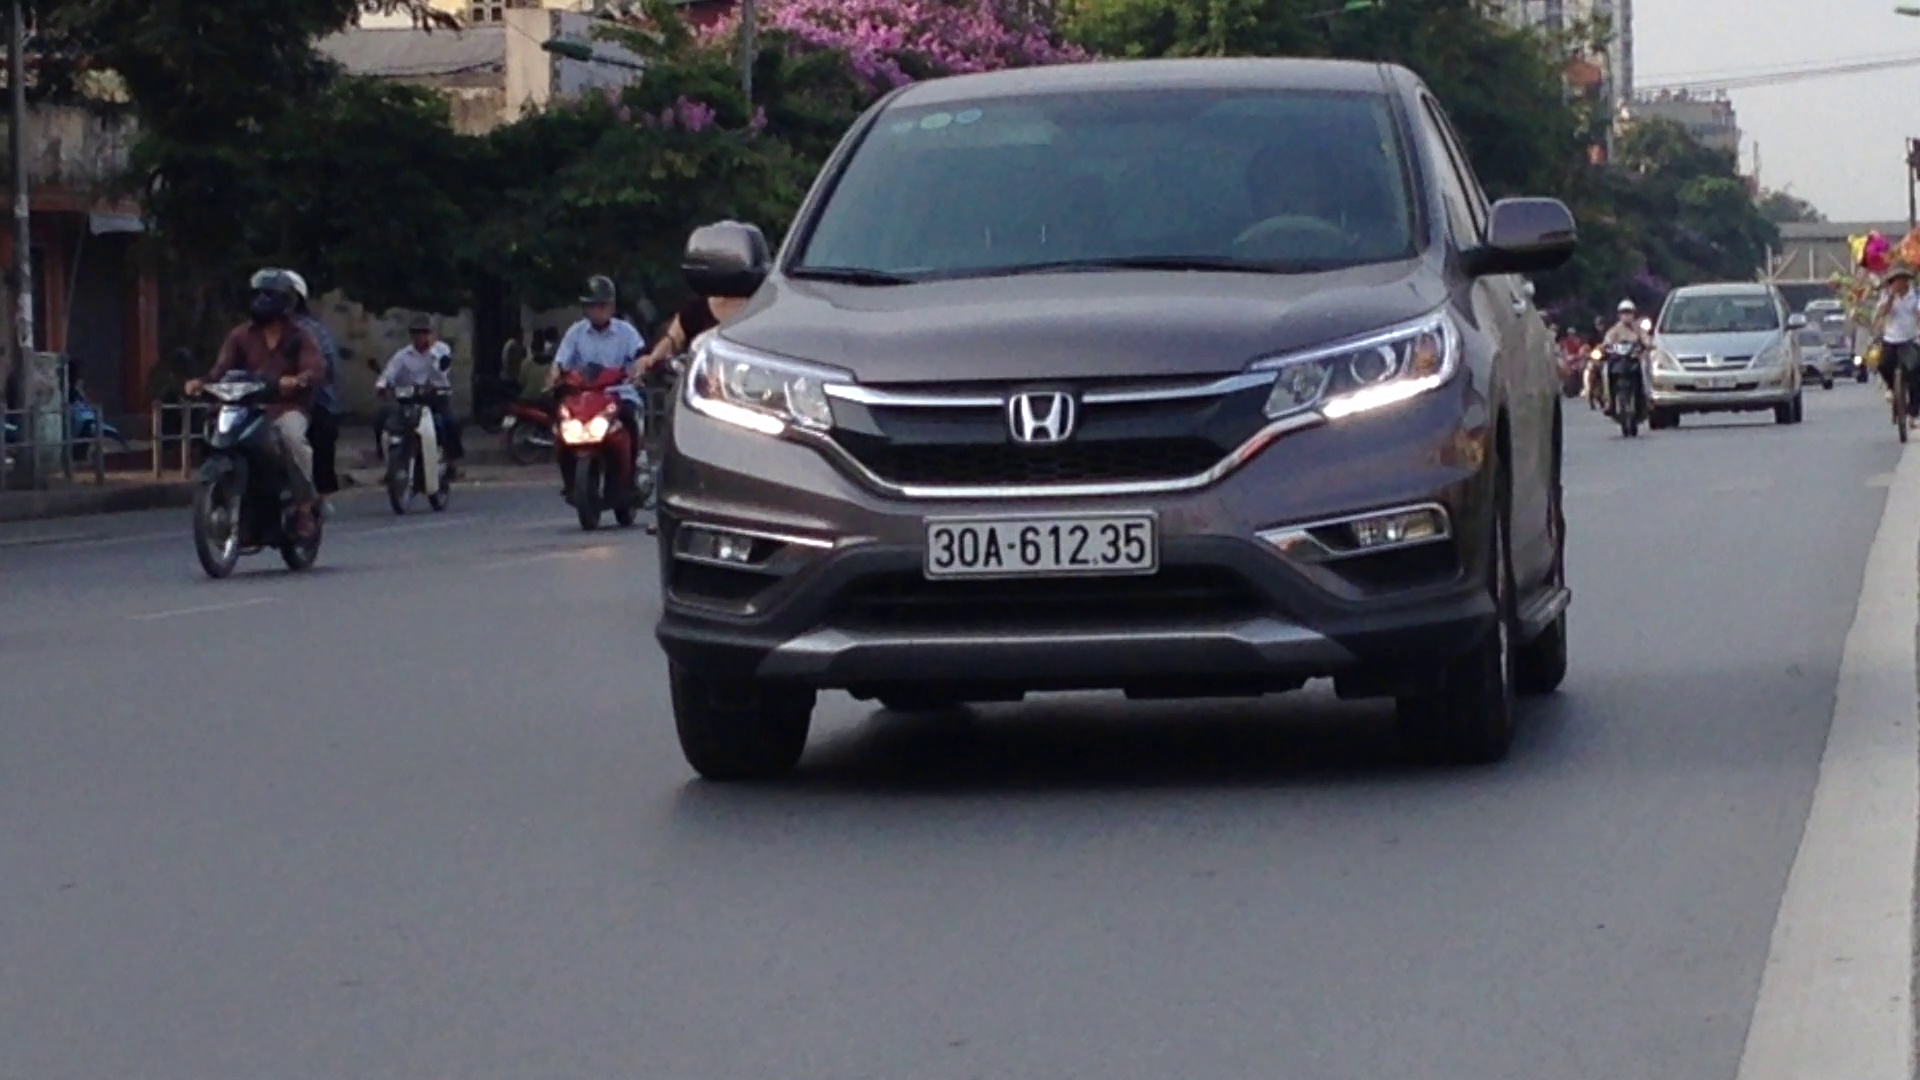vehicle-plate: (916, 510, 1164, 579)
